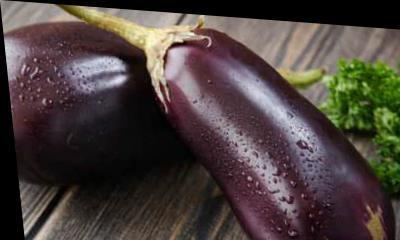eggplant: (0, 1, 369, 239)
